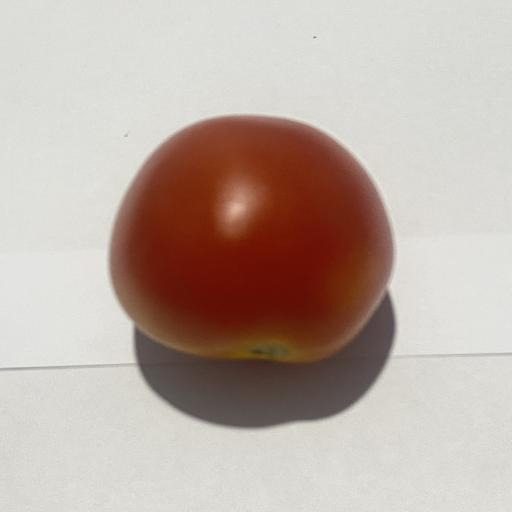ripe: (110, 116, 393, 362)
